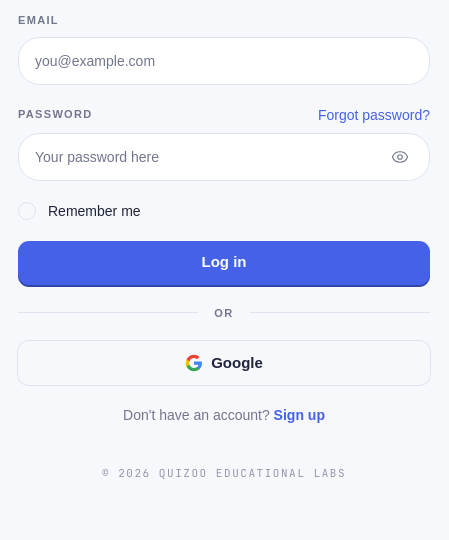
Test: LoginForm › не отправляет запрос при пустой форме
Step 1. Click the button "Log in" → coordinates (224, 262), box [18,240,430,284]
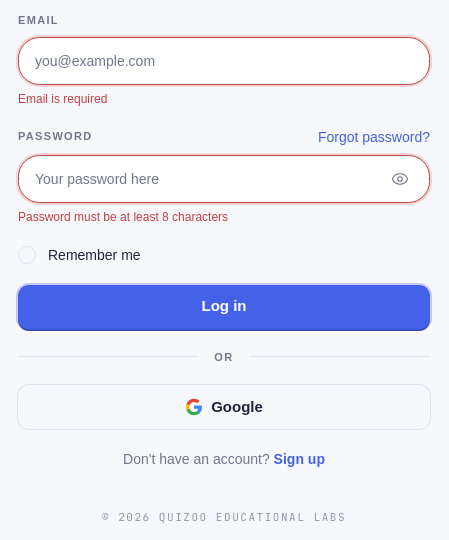
Check: the text "Email is required" is shown, box [18,92,107,106]
